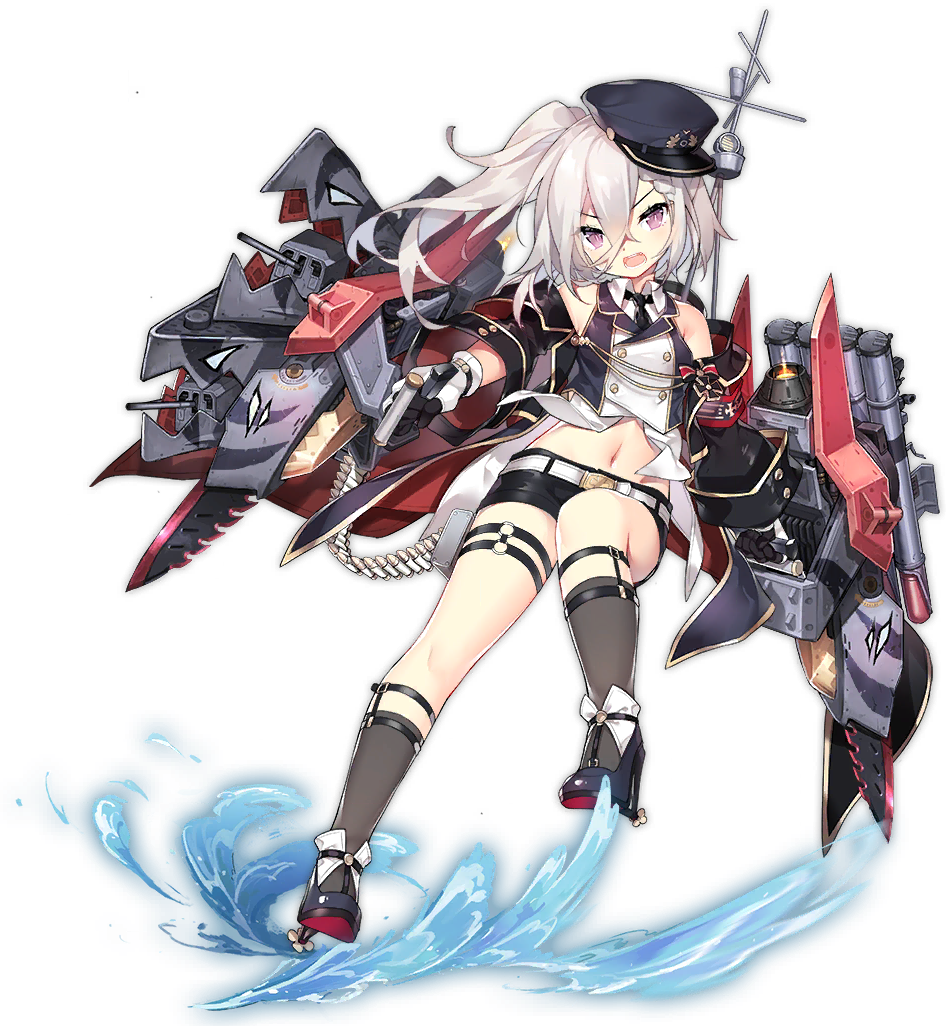person: (335, 75, 733, 833)
